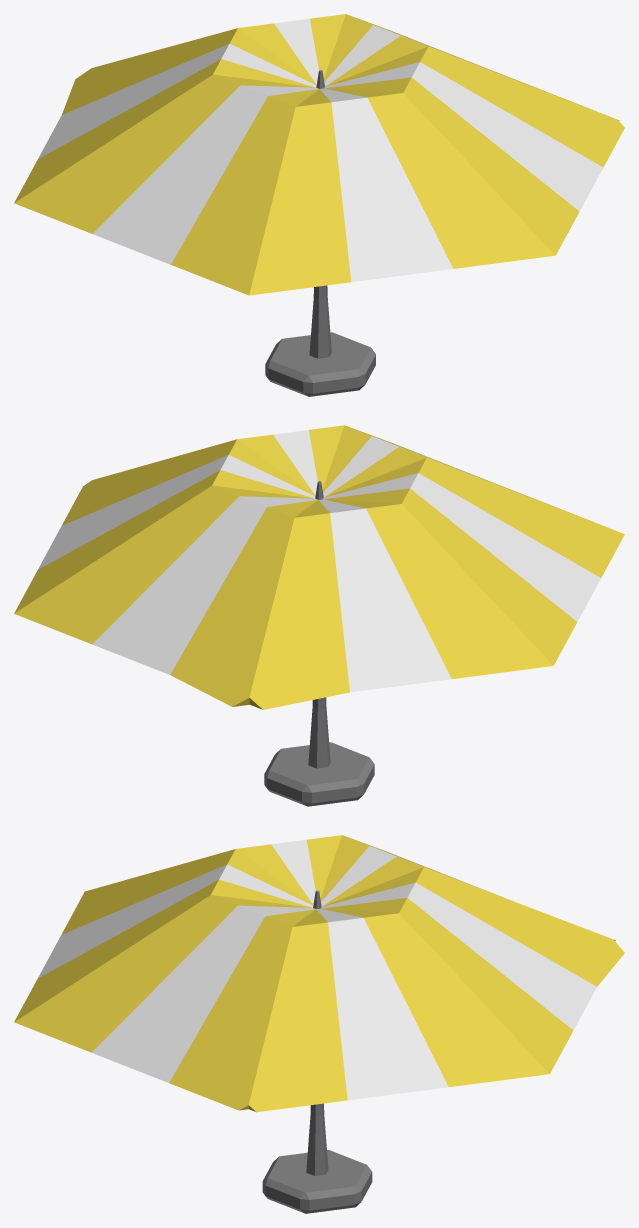
File: umbrella01.fbx
3 renders of one model, top to bottom at view 1: azimuth 30°, elevation 25°; view 2: azimuth 150°, elevation 25°; view 3: azimuth 270°, elevation 25°, orthographic.
Parts seen in each view (by area): view 1: umbrealla01; view 2: umbrealla01; view 3: umbrealla01.
Boxes of the visible parts, x1,y1,x2,y2 form: umbrealla01: (14,14,624,396); umbrealla01: (14,425,624,806); umbrealla01: (14,835,624,1213).
Bounding box in the file's own units: 828 × 462 × 822.
